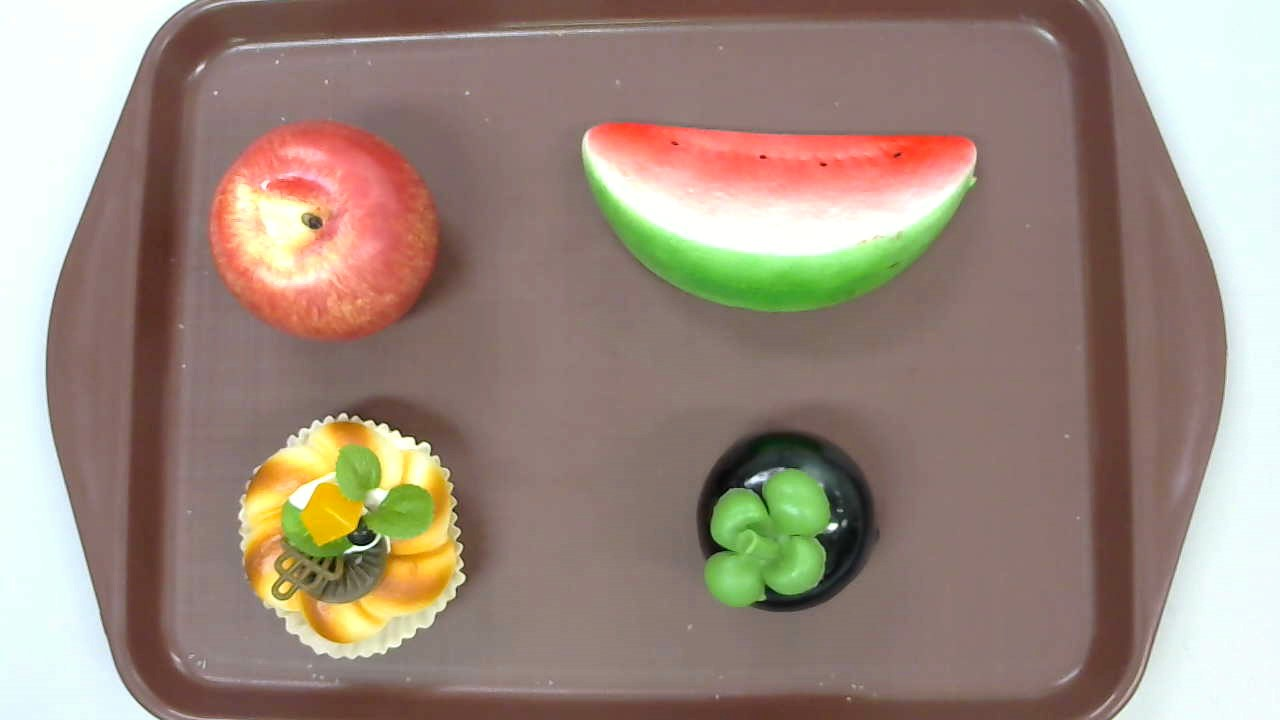fruit tart: (239, 411, 466, 660)
mangosteen: (696, 429, 880, 613)
red apple: (208, 118, 440, 341)
water melon: (581, 120, 978, 314)
